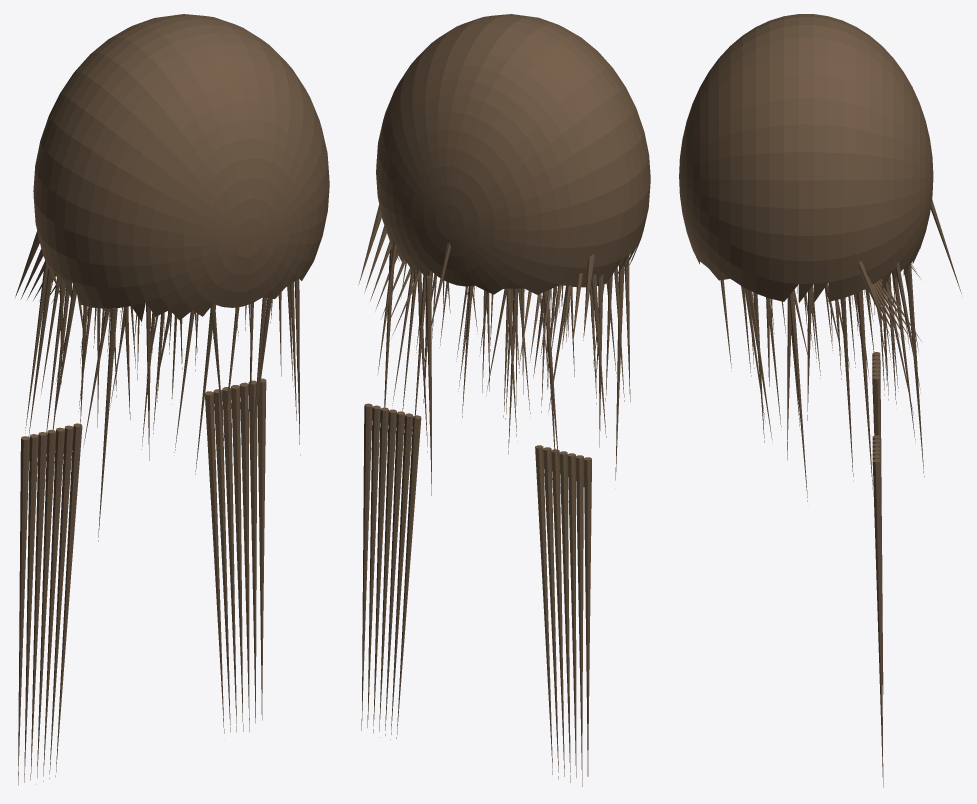
The model's file is braids.glb.
The picture shows the model from 3 angles, left to right: view 1: azimuth 30°, elevation 25°; view 2: azimuth 150°, elevation 25°; view 3: azimuth 270°, elevation 25°; orthographic projection. The views are drawn at different scales.
Visible parts, largest first — view 1: part_000, part_092, part_094, part_104, part_096, part_098, part_102, part_100, part_114, part_112, part_106, part_110 (+6 smaller); view 2: part_000, part_092, part_094, part_102, part_096, part_098, part_104, part_112, part_114, part_118, part_110, part_116 (+7 smaller); view 3: part_000, part_118, part_061, part_072, part_053, part_092, part_090.
Boxes of the visible parts, x1=… form: part_000: x1=33, y1=14, x2=329, y2=321; part_092: x1=55, y1=423, x2=82, y2=776; part_094: x1=49, y1=425, x2=73, y2=778; part_104: x1=18, y1=436, x2=29, y2=785; part_096: x1=43, y1=427, x2=64, y2=781; part_098: x1=36, y1=429, x2=56, y2=784; part_102: x1=24, y1=434, x2=38, y2=782; part_100: x1=30, y1=432, x2=47, y2=780; part_114: x1=239, y1=382, x2=249, y2=731; part_112: x1=231, y1=385, x2=243, y2=731; part_106: x1=205, y1=391, x2=224, y2=733; part_110: x1=222, y1=387, x2=236, y2=731; part_000: x1=376, y1=14, x2=650, y2=294; part_092: x1=535, y1=445, x2=552, y2=774; part_094: x1=543, y1=447, x2=558, y2=779; part_102: x1=575, y1=455, x2=583, y2=786; part_096: x1=551, y1=449, x2=564, y2=776; part_098: x1=559, y1=451, x2=570, y2=782; part_104: x1=583, y1=457, x2=591, y2=776; part_112: x1=379, y1=409, x2=396, y2=737; part_114: x1=373, y1=407, x2=388, y2=733; part_118: x1=361, y1=403, x2=372, y2=730; part_110: x1=385, y1=411, x2=404, y2=735; part_116: x1=367, y1=405, x2=380, y2=727; part_000: x1=679, y1=14, x2=933, y2=302; part_118: x1=872, y1=459, x2=883, y2=787; part_061: x1=906, y1=264, x2=924, y2=476; part_072: x1=857, y1=290, x2=872, y2=489; part_053: x1=789, y1=290, x2=807, y2=501; part_092: x1=872, y1=375, x2=883, y2=694; part_090: x1=840, y1=297, x2=853, y2=481.
Size of the model in its own units: 0.2096 by 0.5848 by 0.212.
